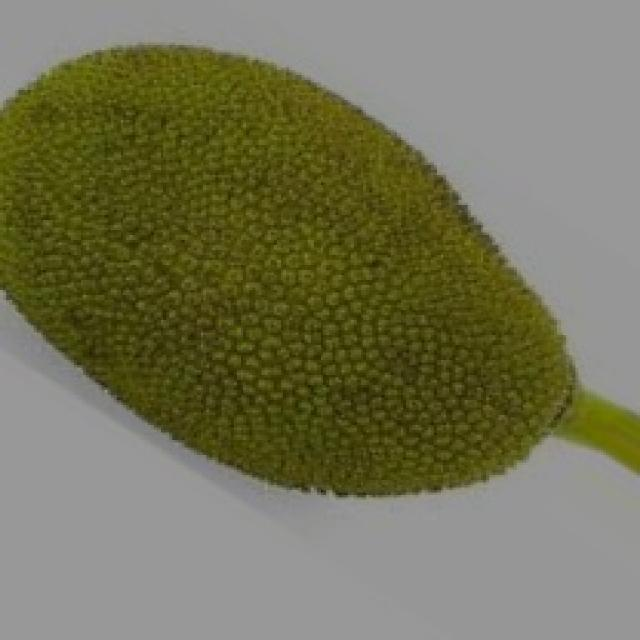Fruit: (0, 20, 406, 450), (240, 142, 603, 530)
